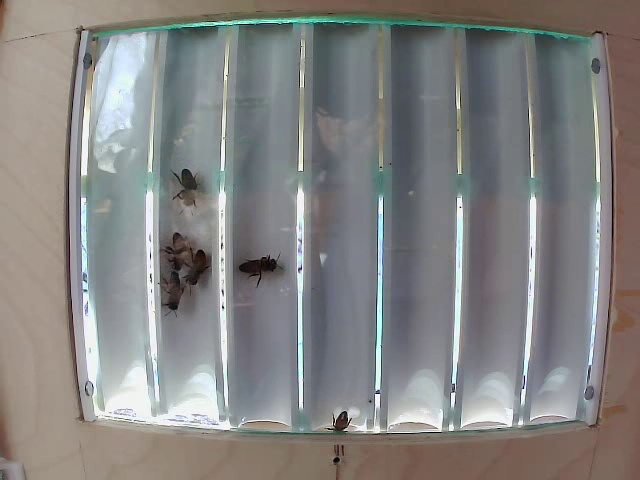bee: (234, 249, 280, 287), (166, 164, 198, 200), (185, 243, 211, 287), (159, 264, 181, 311), (158, 236, 183, 267)
